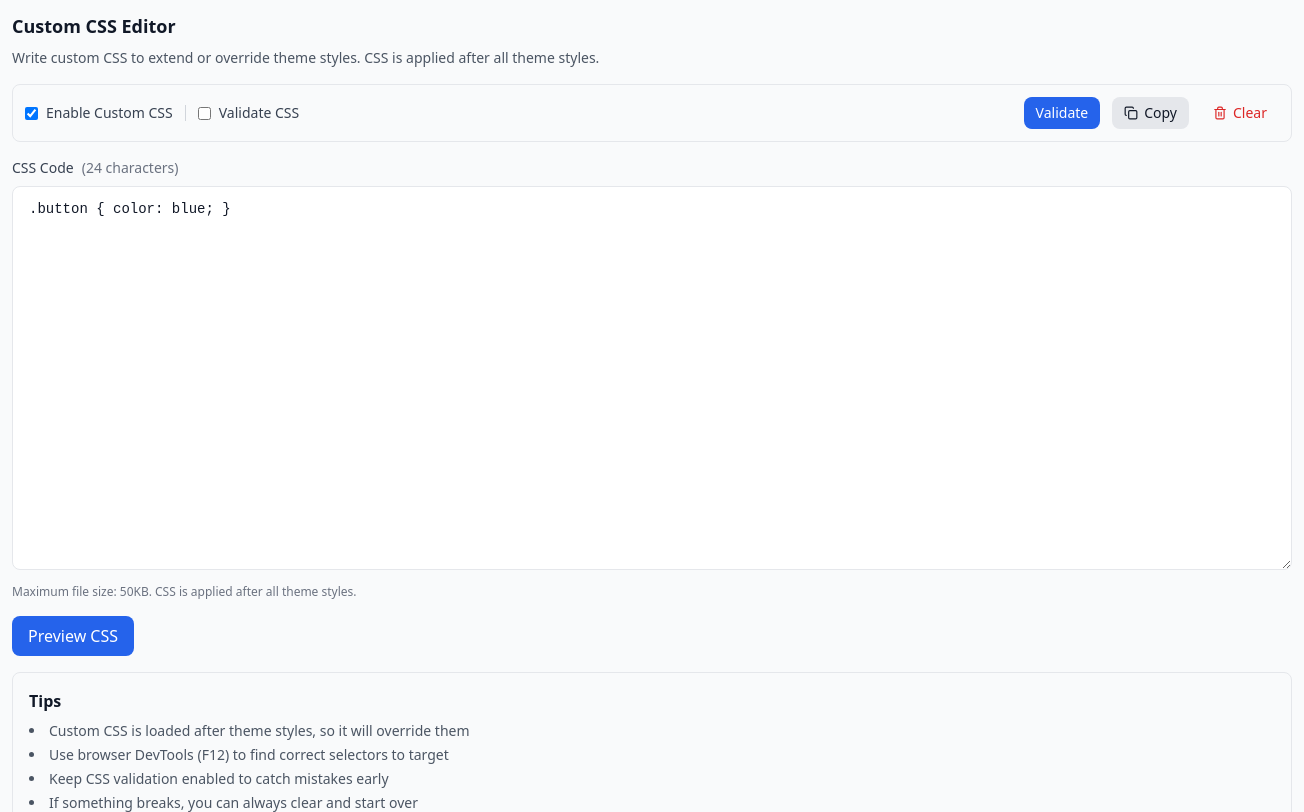
Test: CustomCSSEditor › Preview Mode › should show CSS code in preview
The image size is (1304, 812).
Click the button "Preview CSS" at (73, 636), box [12,616,134,656]
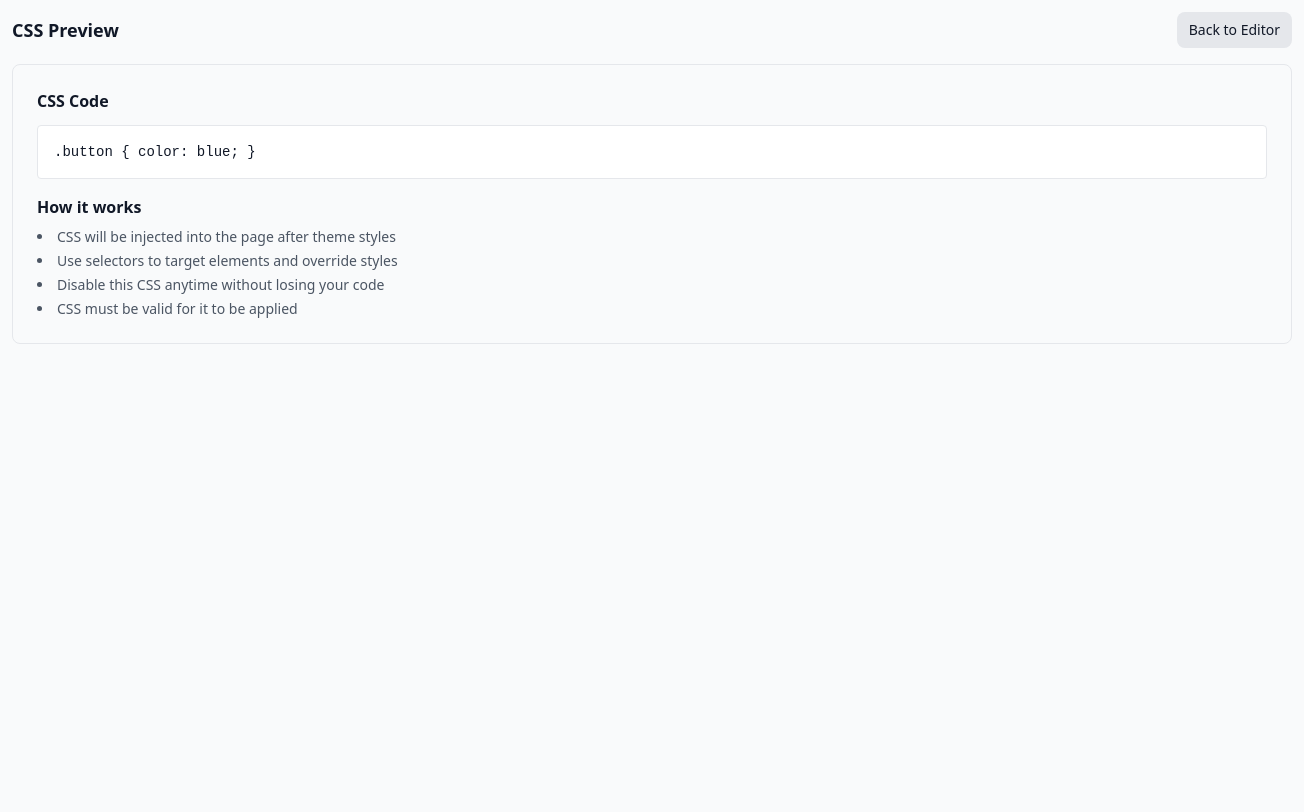
Expected: the text ".button { color: blue; }" is shown, [54,144,256,160]
